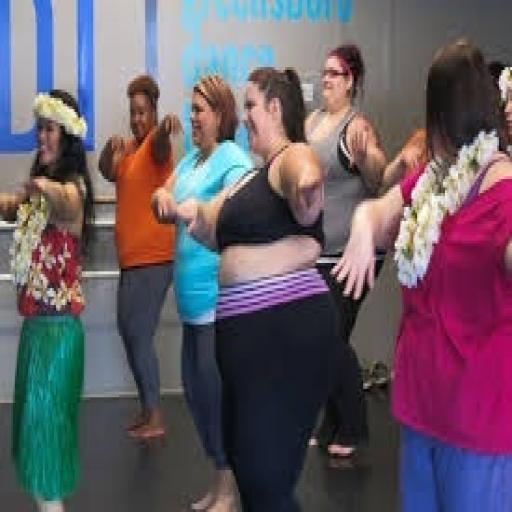dancing: (333, 36, 510, 510), (0, 87, 93, 509)
